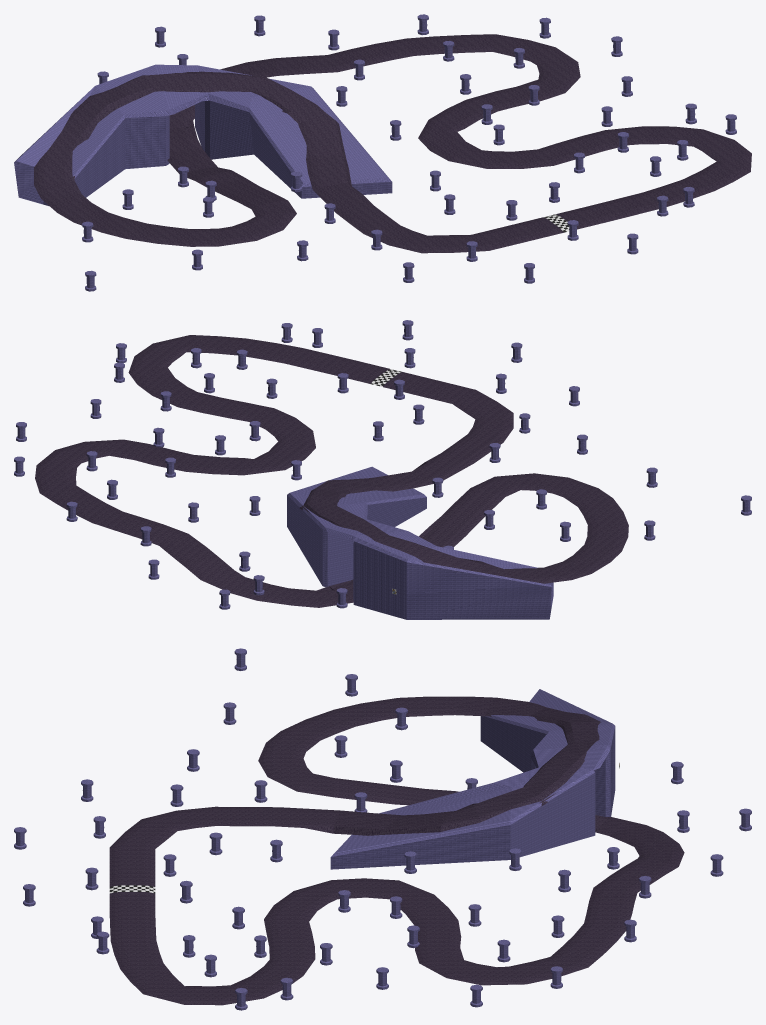
Rendered from yargtrack main.glb.
3 renders of one model, top to bottom at view 1: azimuth 30°, elevation 25°; view 2: azimuth 150°, elevation 25°; view 3: azimuth 270°, elevation 25°, orthographic. The views are drawn at different scales.
Parts seen in each view (by area): view 1: Cube; view 2: Cube; view 3: Cube.
Boxes of the visible parts, box(x1,y1,x2,y2) form: Cube: box(14, 14, 751, 291); Cube: box(14, 320, 751, 619); Cube: box(14, 648, 751, 1010).
Size of the model in its own units: 97.21 by 10.72 by 87.96.
4 materials, 4 textured.
